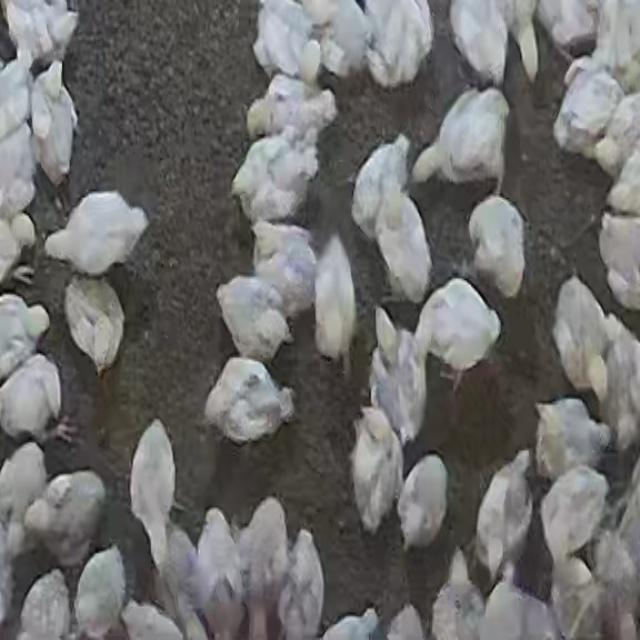chicken: (413, 277, 503, 388), (414, 86, 511, 186), (44, 192, 150, 278), (230, 135, 318, 228), (26, 468, 107, 568), (204, 355, 292, 443), (550, 276, 611, 396), (474, 454, 532, 580), (539, 466, 609, 570), (371, 323, 426, 453), (128, 419, 176, 564), (240, 497, 289, 639), (193, 506, 245, 639), (350, 408, 403, 536), (216, 275, 292, 363), (377, 180, 432, 300), (552, 62, 619, 160), (250, 220, 318, 316), (32, 60, 80, 195), (64, 277, 126, 378), (252, 74, 336, 148), (314, 231, 358, 370), (365, 2, 436, 88), (353, 134, 411, 236), (534, 398, 606, 480), (2, 353, 64, 445), (448, 0, 513, 86), (469, 196, 524, 297), (396, 452, 448, 552), (600, 316, 640, 446), (278, 530, 325, 638), (74, 543, 127, 636), (252, 0, 312, 81), (315, 1, 376, 80), (4, 1, 78, 66), (1, 441, 48, 543), (431, 556, 482, 640), (1, 292, 50, 378), (161, 525, 196, 640), (600, 213, 640, 311), (480, 559, 526, 640), (596, 93, 640, 171), (18, 572, 69, 639), (0, 123, 38, 211), (542, 0, 596, 59), (0, 213, 41, 285), (1, 55, 34, 137)
